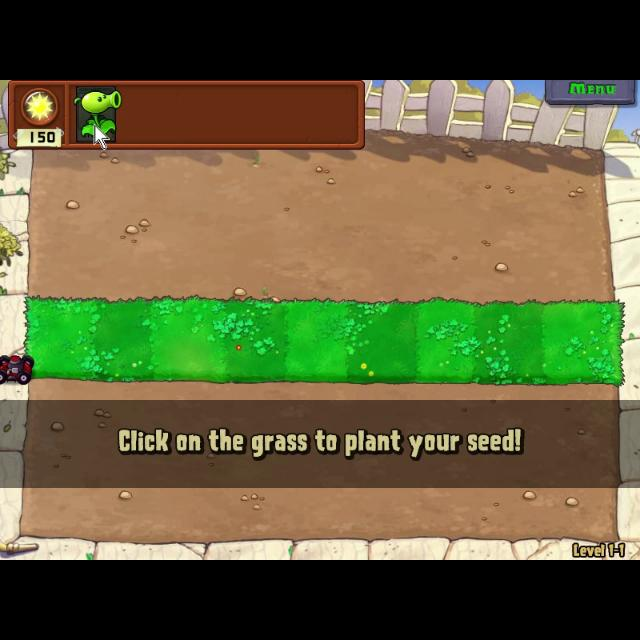Garden: (21, 292, 634, 390)
Menu Button: (542, 80, 640, 110)
Mower: (1, 349, 36, 386)
Peashooter: (74, 82, 118, 146)
Seed Panel: (7, 80, 369, 152)
